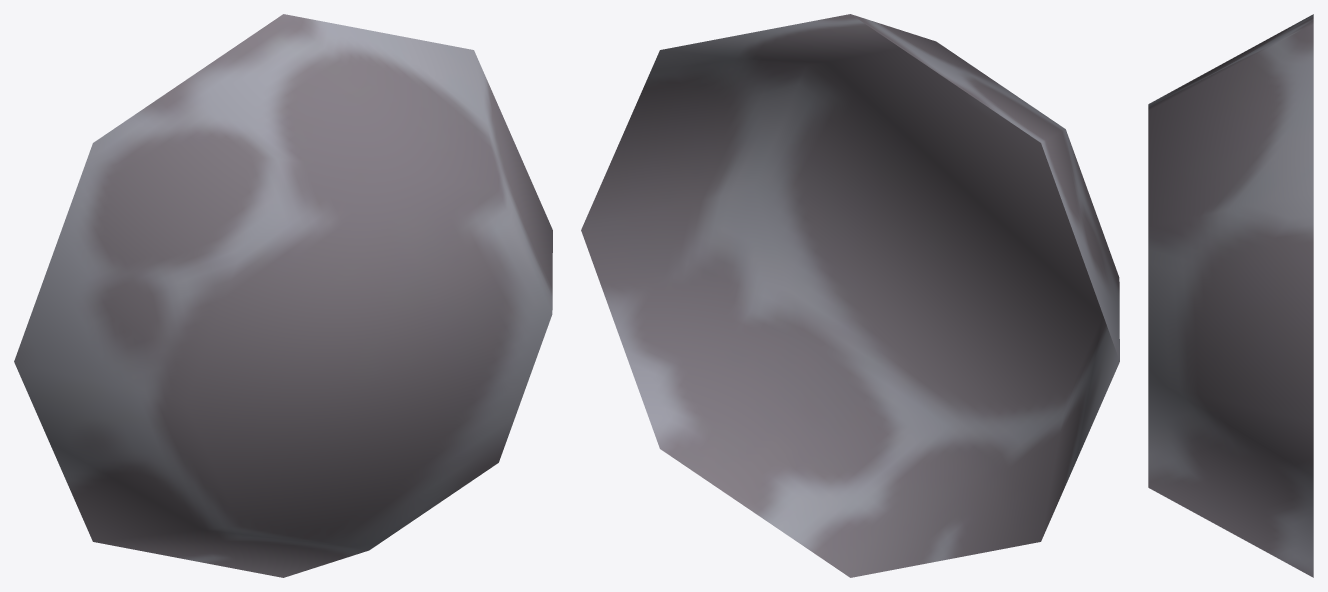
Rendered from Parts_Handle_NailHead.fbx.
3 views of the same model, side by side, from view 1: azimuth 30°, elevation 25°; view 2: azimuth 150°, elevation 25°; view 3: azimuth 270°, elevation 25° (orthographic). The views are drawn at different scales.
Parts seen in each view (by area): view 1: Parts_Handle_NailHead; view 2: Parts_Handle_NailHead; view 3: Parts_Handle_NailHead.
Boxes of the visible parts, <box> form: Parts_Handle_NailHead: <box>14,14,552,577</box>; Parts_Handle_NailHead: <box>581,14,1119,577</box>; Parts_Handle_NailHead: <box>1148,14,1313,577</box>.
Bounding box in the file's own units: 4.53 × 4.53 × 1.25.
